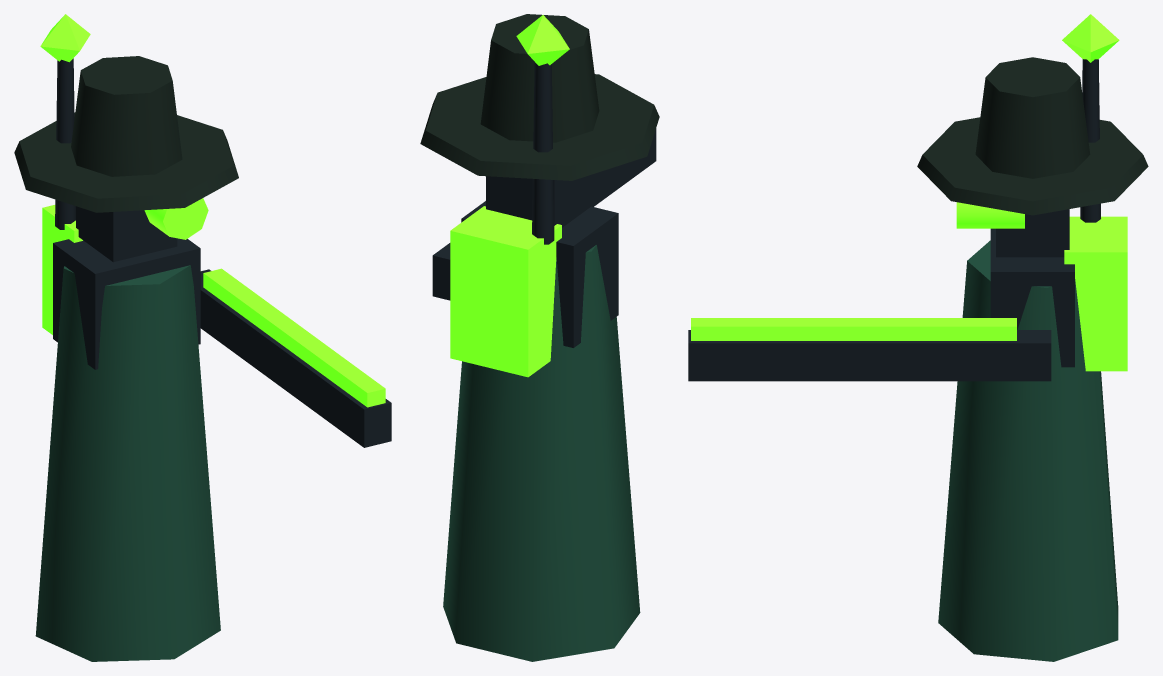
Rendered from enemy_ranger.glb.
3 renders of one model, left to right at view 1: azimuth 30°, elevation 25°; view 2: azimuth 150°, elevation 25°; view 3: azimuth 270°, elevation 25°, orthographic. The views are drawn at different scales.
Parts seen in each view (by area): view 1: duster_coat, hat_crown, hat_brim, rifle_body, chest_rig, rifle_rail, head, antenna_mast, battery_pack, monocle_scope, antenna_tip; view 2: duster_coat, battery_pack, hat_brim, hat_crown, chest_rig, head, antenna_mast, rifle_body, antenna_tip; view 3: duster_coat, rifle_body, hat_crown, hat_brim, battery_pack, rifle_rail, chest_rig, head, antenna_mast, antenna_tip, monocle_scope.
Boxes of the visible parts, x1,y1,x2,y2 form: duster_coat: [35, 265, 220, 661]; hat_crown: [71, 56, 182, 176]; hat_brim: [14, 112, 238, 212]; rifle_body: [200, 269, 391, 447]; chest_rig: [53, 238, 200, 369]; rifle_rail: [203, 268, 385, 407]; head: [76, 206, 177, 262]; antenna_mast: [55, 58, 75, 229]; battery_pack: [42, 205, 82, 334]; monocle_scope: [144, 198, 208, 239]; antenna_tip: [40, 14, 90, 62]; duster_coat: [443, 245, 640, 661]; battery_pack: [450, 206, 561, 377]; hat_brim: [420, 74, 659, 180]; hat_crown: [480, 14, 599, 142]; chest_rig: [461, 201, 618, 347]; head: [486, 174, 593, 227]; antenna_mast: [532, 62, 554, 244]; rifle_body: [432, 128, 656, 300]; antenna_tip: [516, 15, 569, 65]; duster_coat: [938, 240, 1118, 661]; rifle_body: [688, 330, 1051, 381]; hat_crown: [975, 57, 1090, 178]; hat_brim: [917, 117, 1148, 215]; battery_pack: [1064, 216, 1127, 371]; rifle_rail: [691, 318, 1016, 340]; chest_rig: [990, 228, 1074, 367]; head: [996, 209, 1069, 257]; antenna_mast: [1080, 59, 1100, 222]; antenna_tip: [1062, 14, 1119, 62]; monocle_scope: [956, 202, 1024, 228].
Size of the model in its own units: 0.88 by 2.49 by 1.75.
